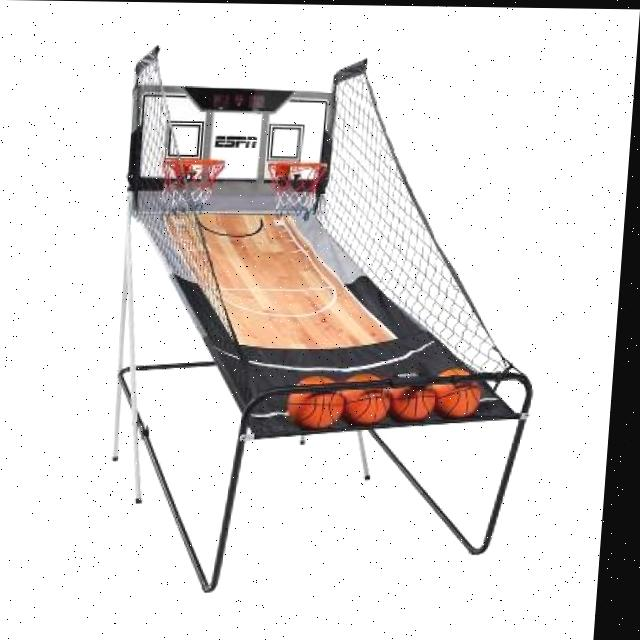Basketball: (285, 376, 346, 431), (337, 373, 391, 427), (430, 368, 484, 421), (387, 377, 437, 423)
hoop: (159, 158, 225, 215), (264, 161, 328, 218)
